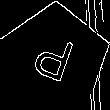P_S: (29, 30, 80, 90)
